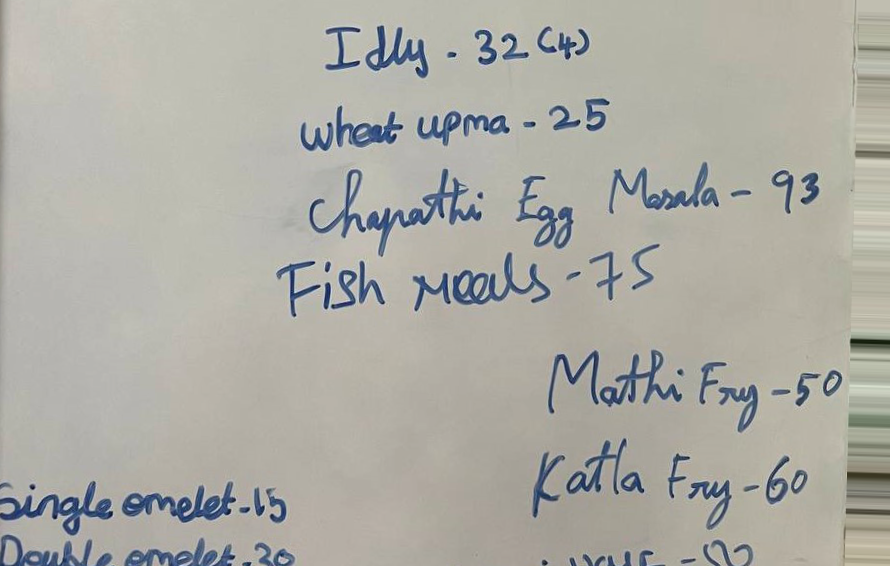chapathi egg masala - 93: (302, 159, 827, 242)
double omelet - 30: (1, 530, 303, 566)
fish Meals - 75: (272, 246, 669, 322)
idly(4) - 32: (318, 11, 596, 77)
katla fry - 60: (526, 439, 818, 528)
mathi fry - 50: (537, 338, 846, 436)
single omelet - 15: (1, 468, 300, 533)
wheat upma - 25: (297, 91, 615, 152)
